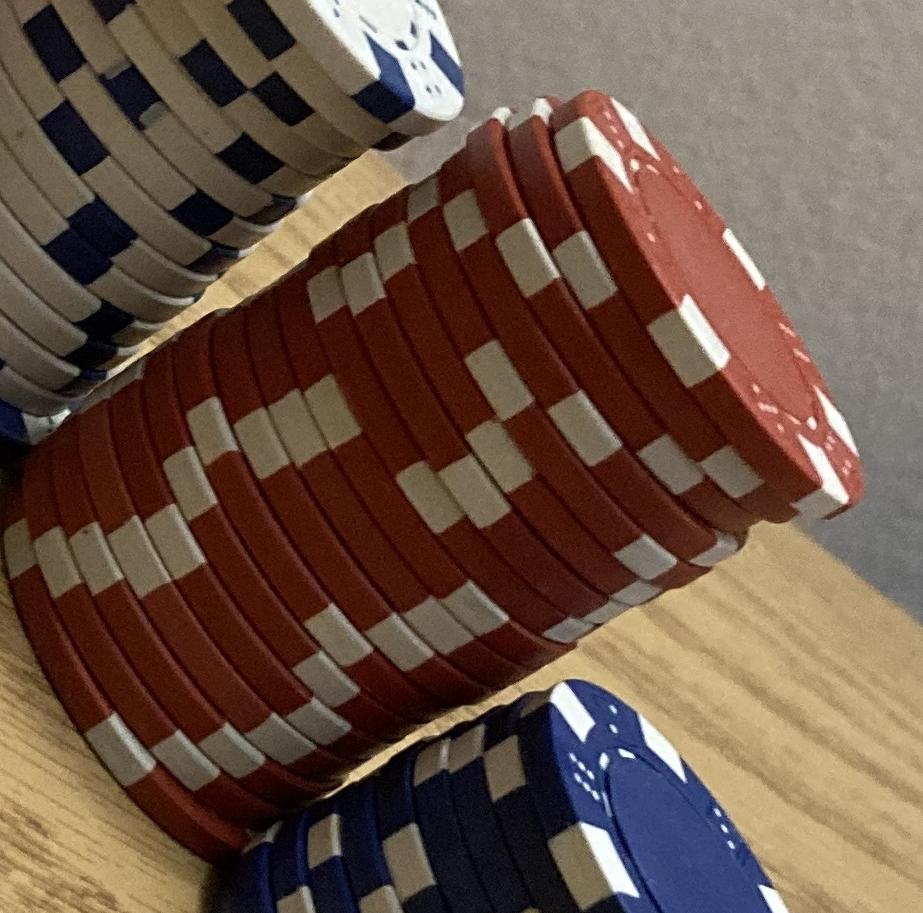Chip: (1, 1, 923, 913)
